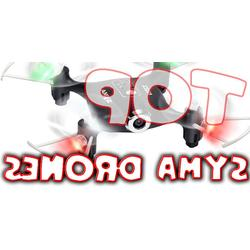drone: (1, 60, 250, 155)
